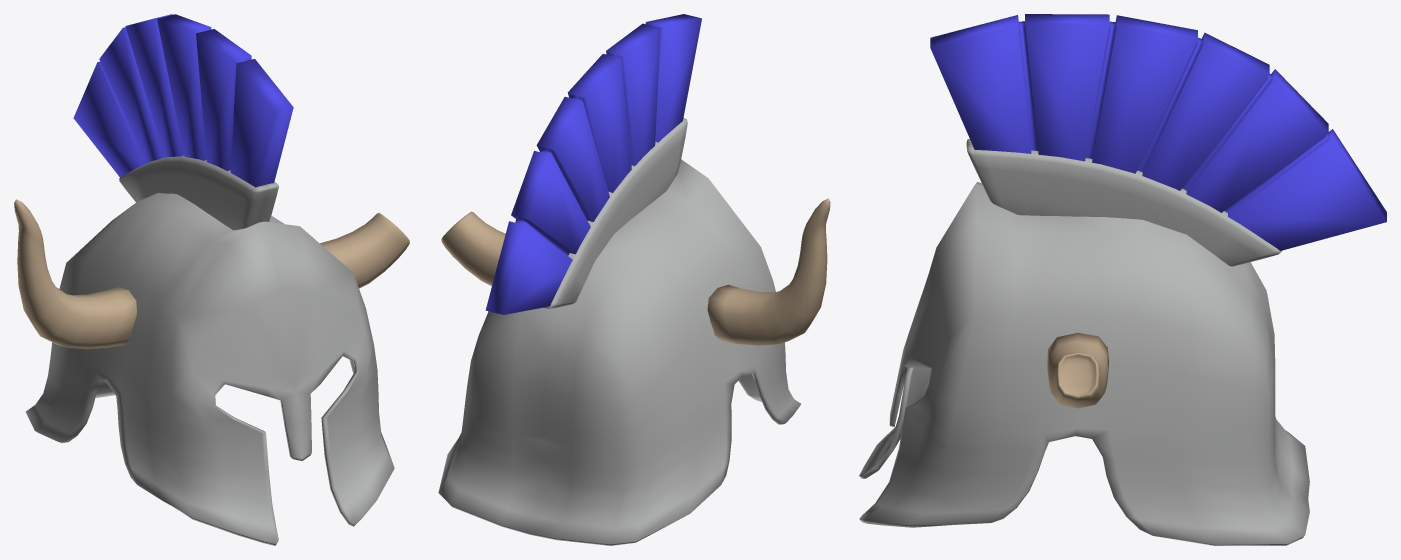
The model's file is CascoAres.fbx.
The picture shows the model from 3 angles, left to right: view 1: azimuth 30°, elevation 25°; view 2: azimuth 150°, elevation 25°; view 3: azimuth 270°, elevation 25°; orthographic projection. The views are drawn at different scales.
Visible parts, largest first — view 1: Plane.019, Plane.018, Cube.017, Plane.020; view 2: Plane.019, Plane.018, Cube.017, Plane.020; view 3: Plane.019, Plane.018, Plane.020, Cube.017.
Part boxes in pixels (<box>): Plane.019: <box>25,193,394,545</box>; Plane.018: <box>73,14,293,187</box>; Cube.017: <box>14,199,409,349</box>; Plane.020: <box>119,155,278,230</box>; Plane.019: <box>438,159,800,545</box>; Plane.018: <box>485,14,701,314</box>; Cube.017: <box>441,198,830,345</box>; Plane.020: <box>543,118,687,308</box>; Plane.019: <box>859,182,1309,545</box>; Plane.018: <box>930,14,1386,250</box>; Plane.020: <box>966,139,1281,266</box>; Cube.017: <box>1046,332,1108,408</box>.
Size of the model in its own units: 104 by 109 by 108.
